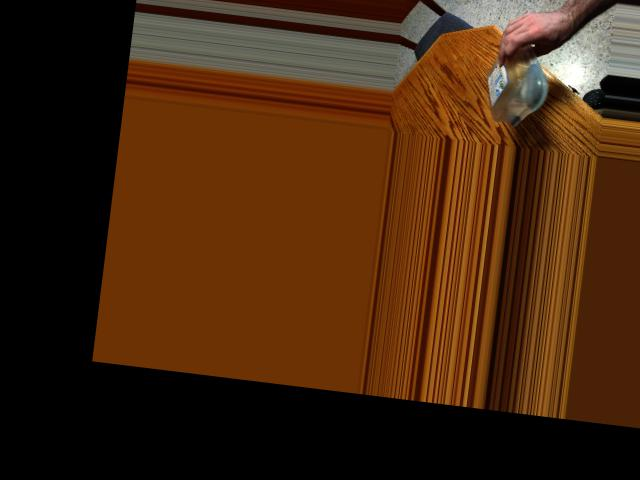cheese: (485, 27, 547, 124)
